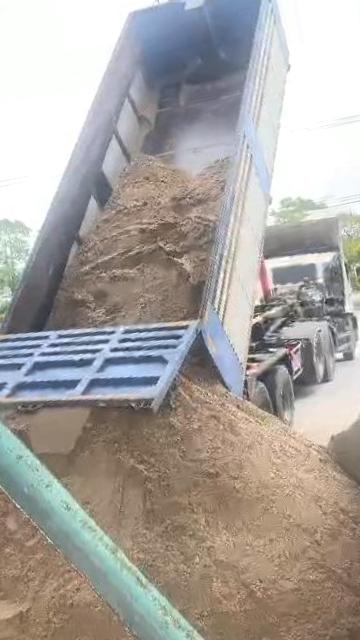sand: (44, 377, 360, 640), (0, 467, 195, 640), (48, 157, 227, 329), (1, 407, 94, 459), (327, 398, 360, 533)
